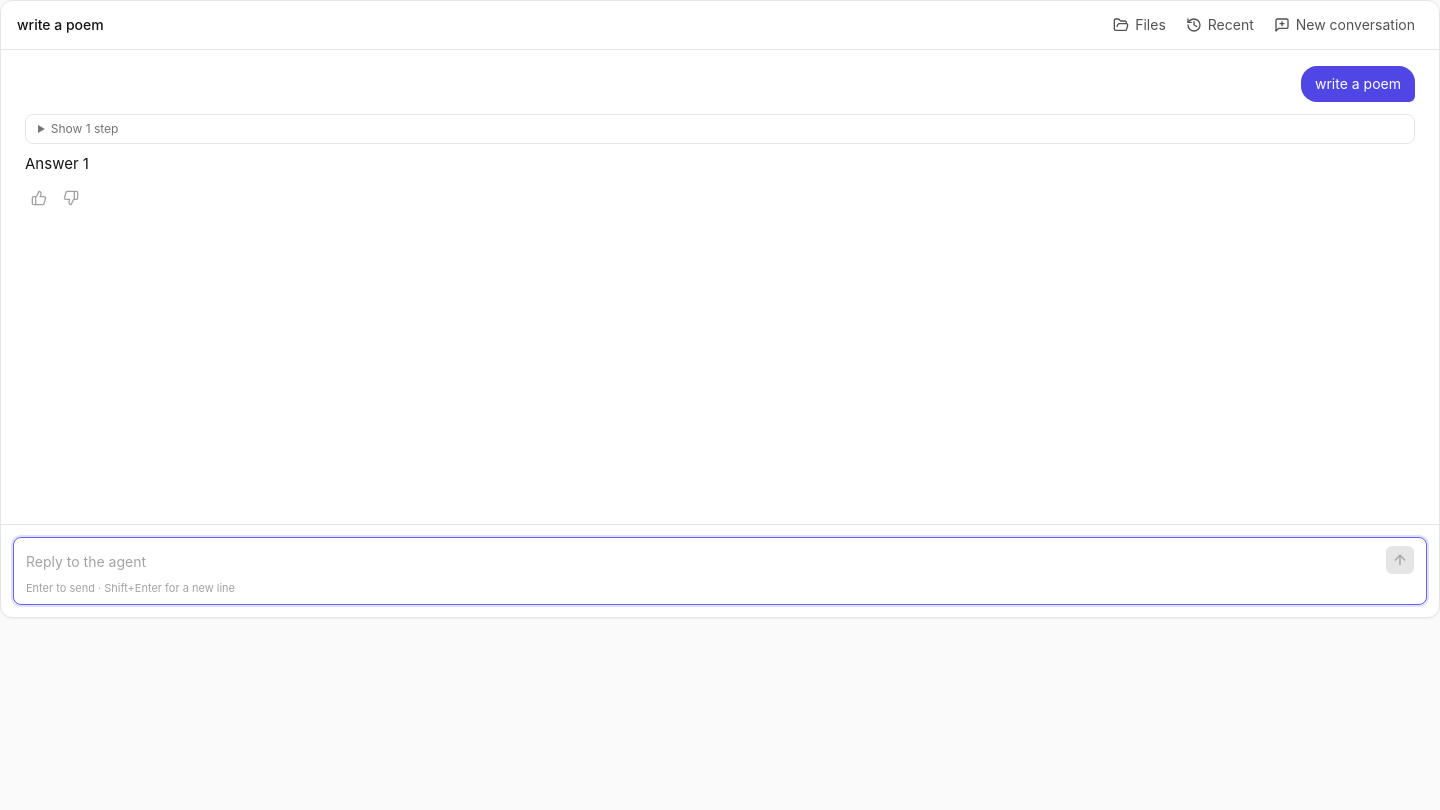
ShareChat › opens the session workspace in the files panel with a download link
This screenshot has width=1440, height=810.
Expected: the element with test id "final-answer" is shown, [25,154,89,173]
Click the button "Files" at (1140, 25), box [1105,9,1174,41]
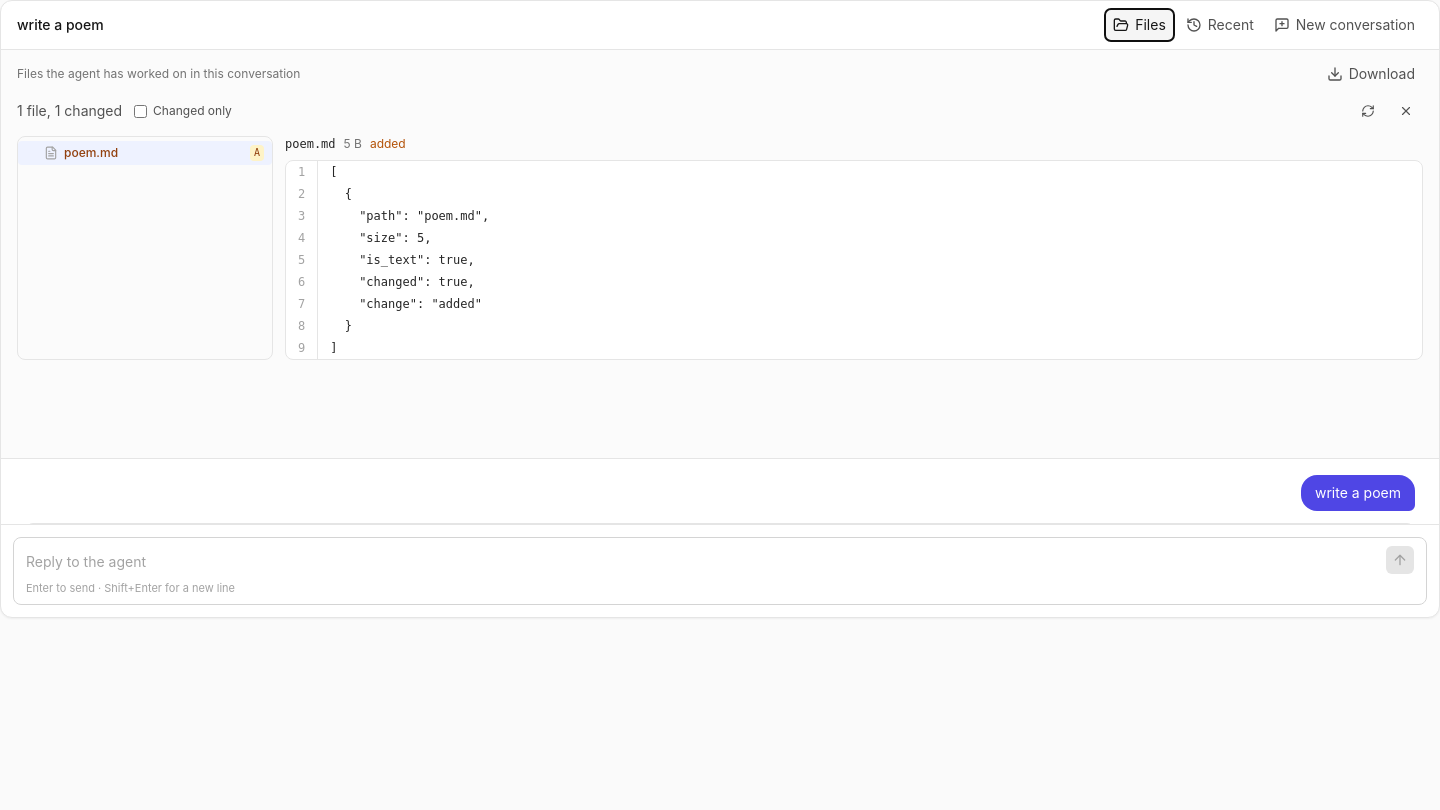
Now the 1st text "poem.md" is shown, box [64,145,118,161]
